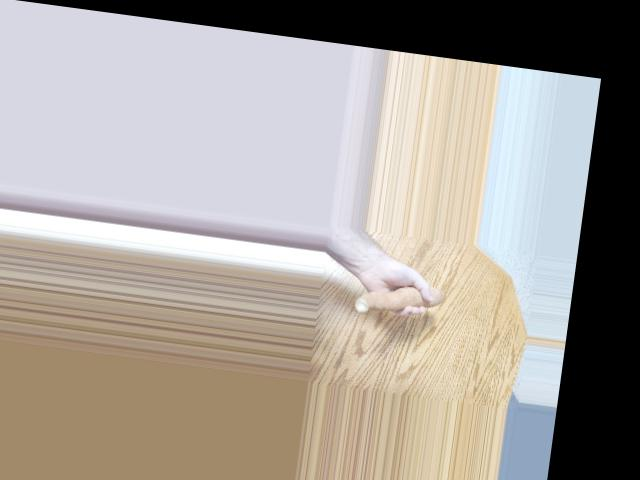sweet_potato: (347, 271, 438, 318)
